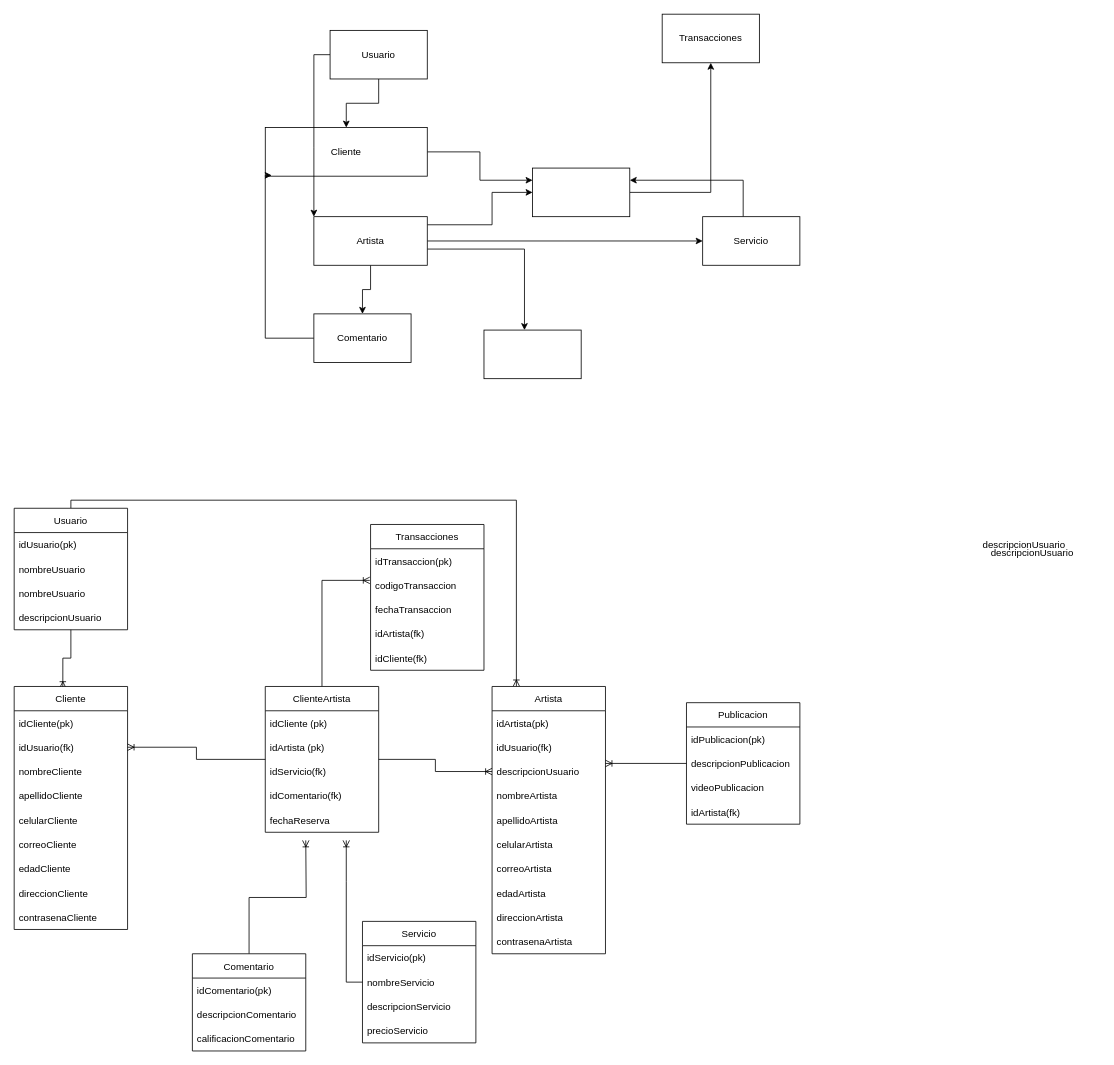
Some shapes in this 1114 by 1065 pixel diagram are drawn without their labels. The centre of each missing label's shape, as x and y in pixels:
Publicaciones: the point at 532,354
Reserva ClienteArtista: the point at 581,192
